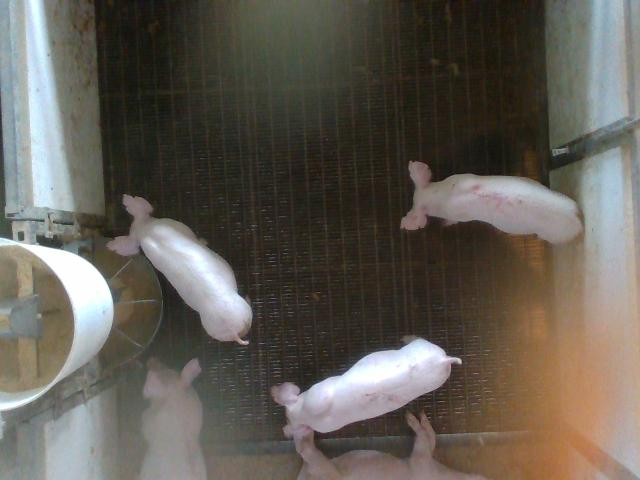pig-5: (401, 163, 582, 243)
